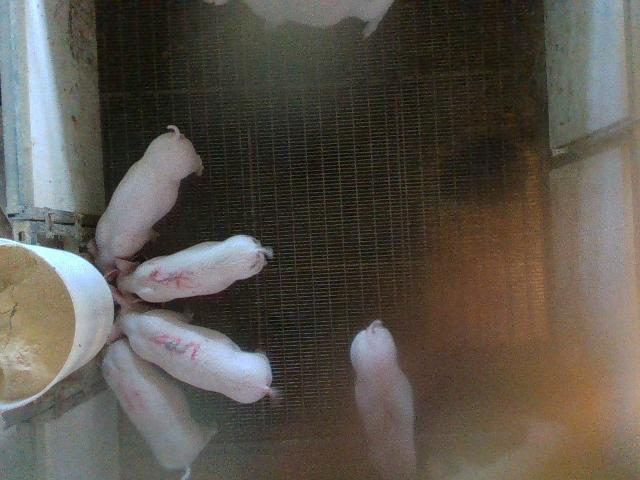pig-1: (350, 320, 416, 479)
pig-3: (118, 310, 274, 403)
pig-4: (104, 339, 215, 478)
pig-5: (112, 235, 272, 311)
